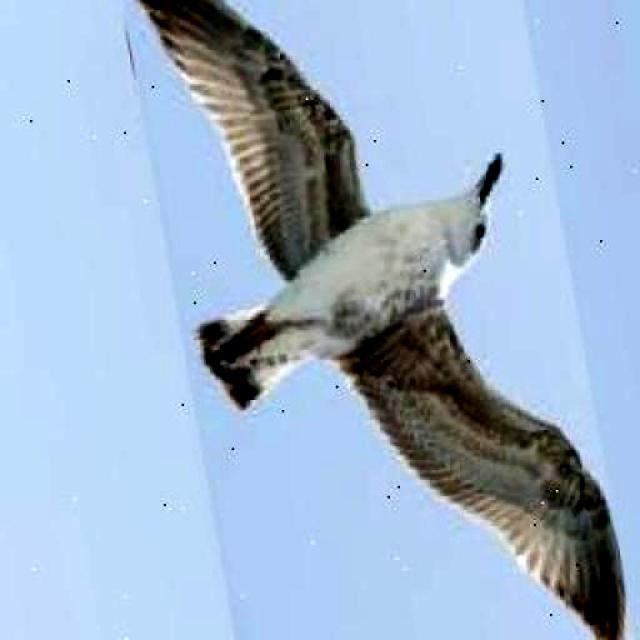airplane: (114, 0, 636, 640)
